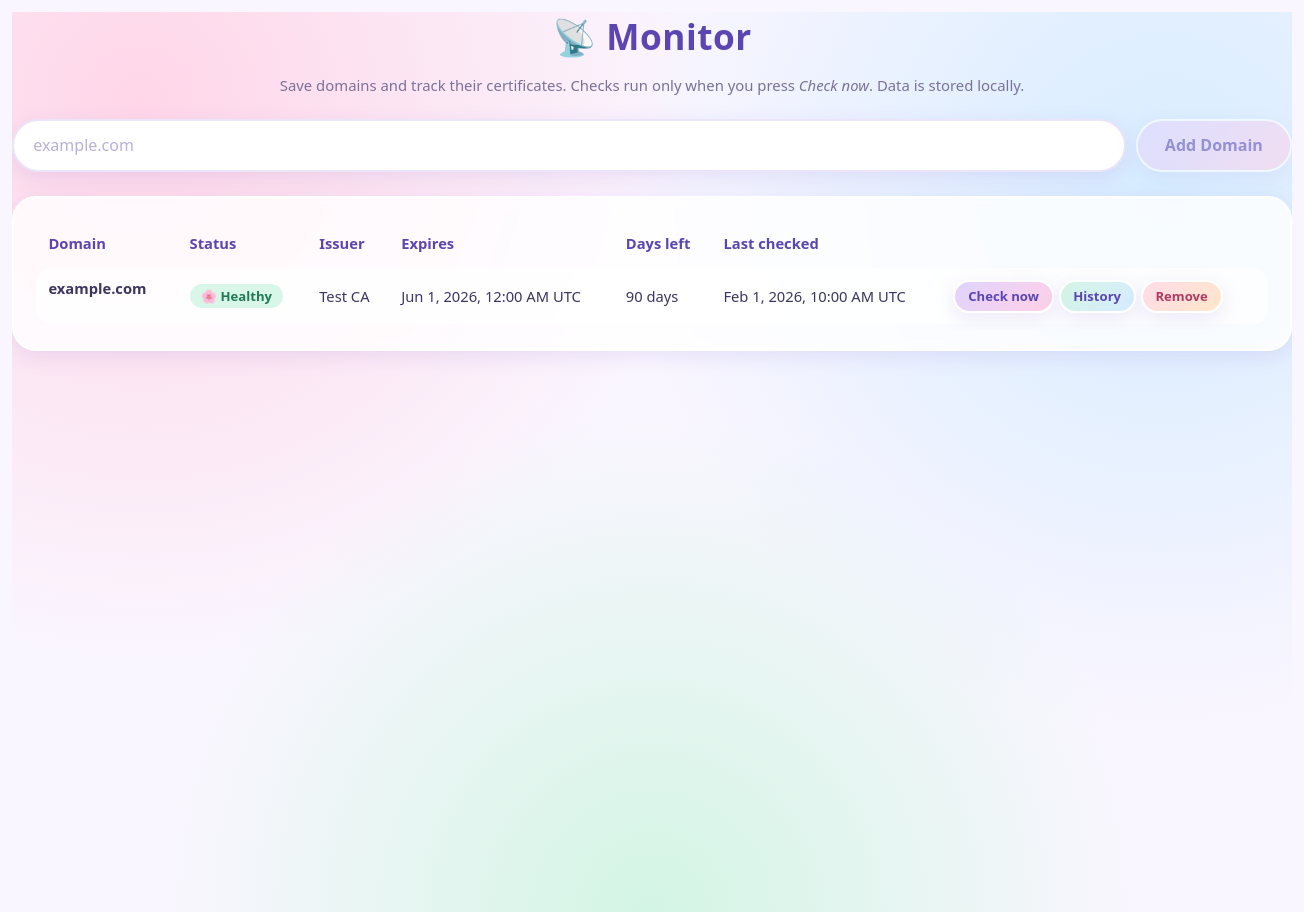
Test case: MonitorPage › Check now calls the API and updates the row
The width and height of the screenshot is (1304, 912).
What coordinates should you click on to do the following:
click the button with aria-label "check example.com now"
I would click on:
 (1004, 296)
Its box is [953,280,1054,313].
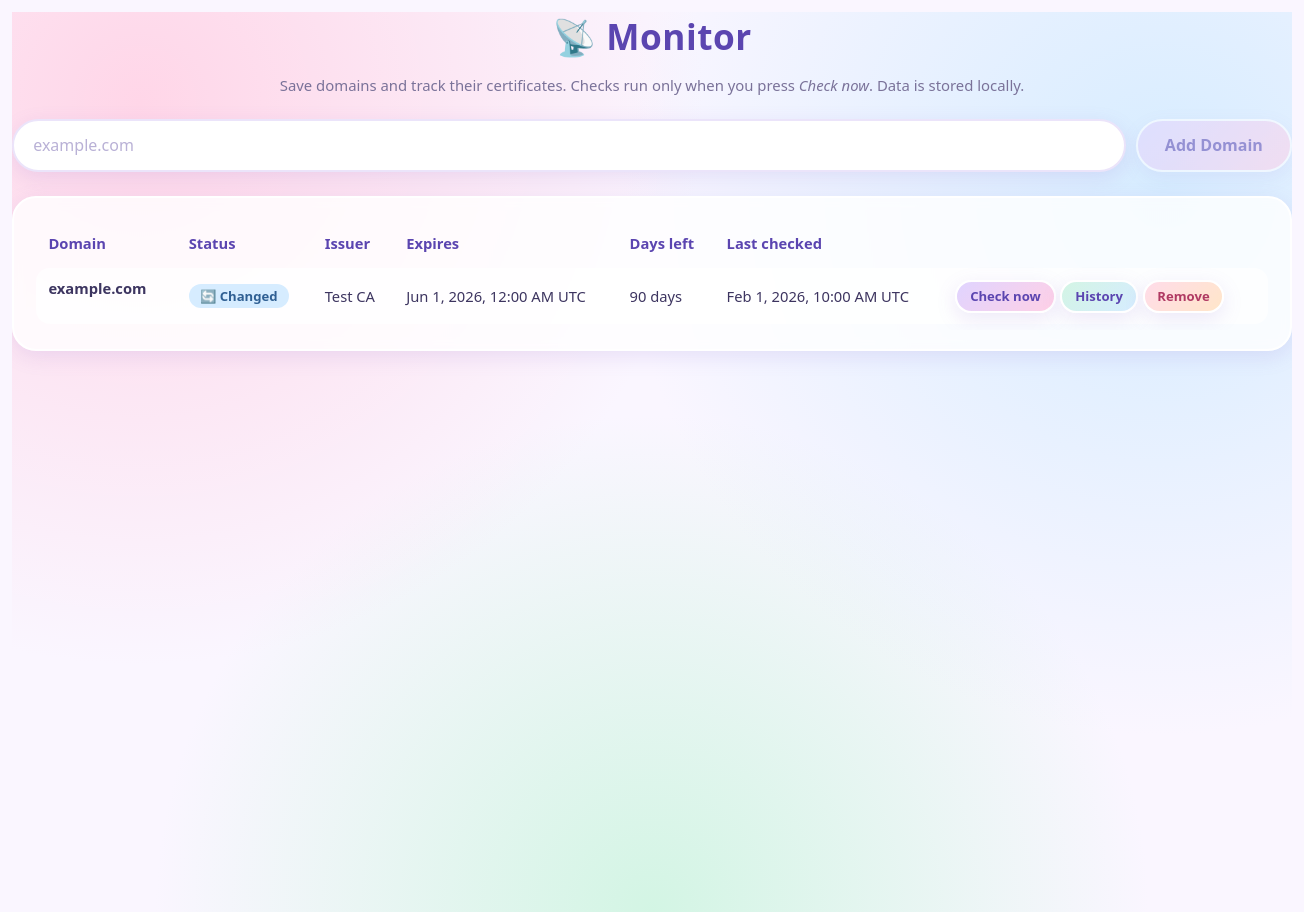
Expected: the element with test id "status-CHANGED" is shown, [189,284,289,308]
